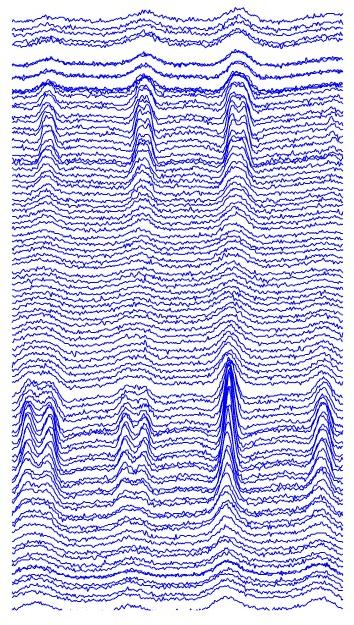defect: (210, 363, 245, 499), (18, 395, 61, 493), (216, 74, 256, 174), (114, 389, 150, 492), (128, 73, 161, 182), (306, 387, 334, 512)
